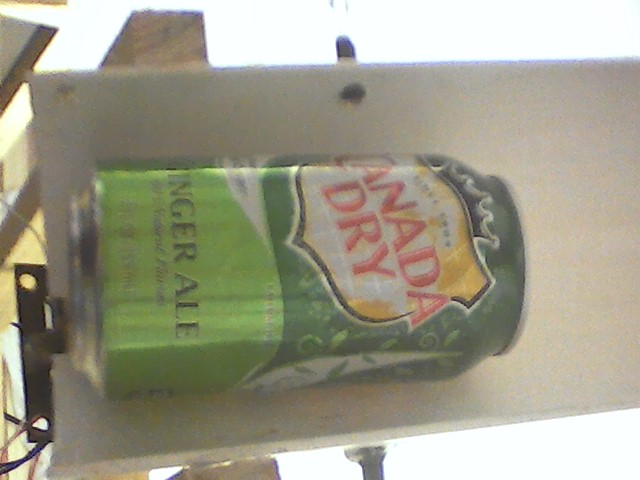lata: (65, 149, 538, 409)
